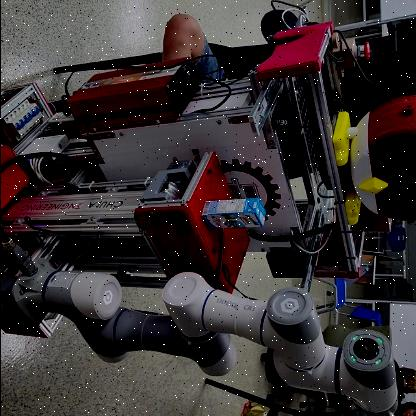Others: (195, 192, 269, 238)
